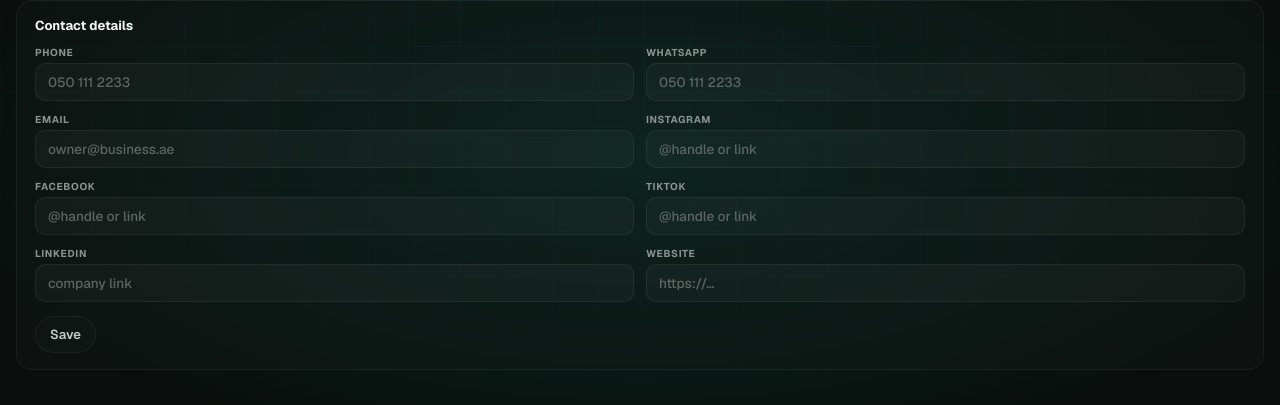
Test: ContactDetails › surfaces a server rejection against the field
Type "https://example.com/x" into the field labelled "Instagram" at (946, 149), box [646,130,1245,168]
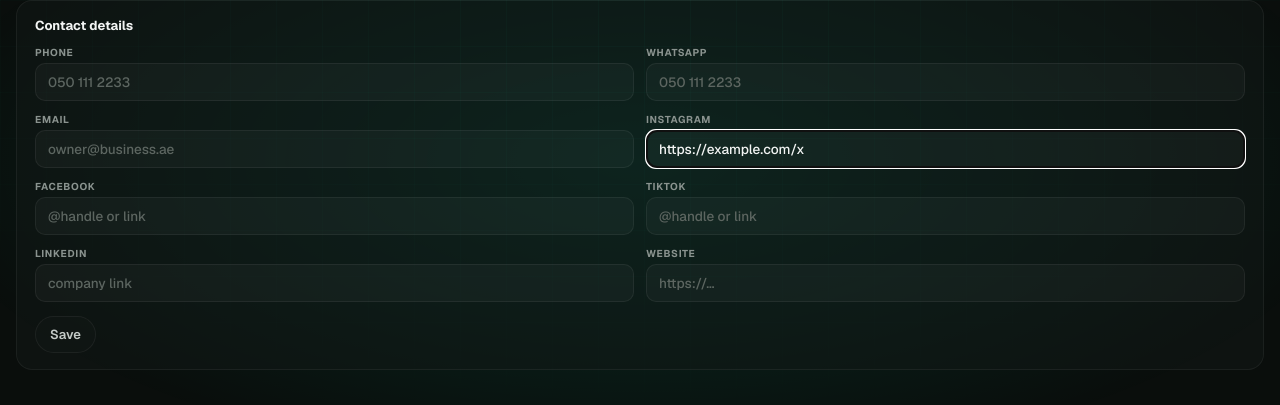
Click the button "Save" at (65, 334), box [35,316,96,353]
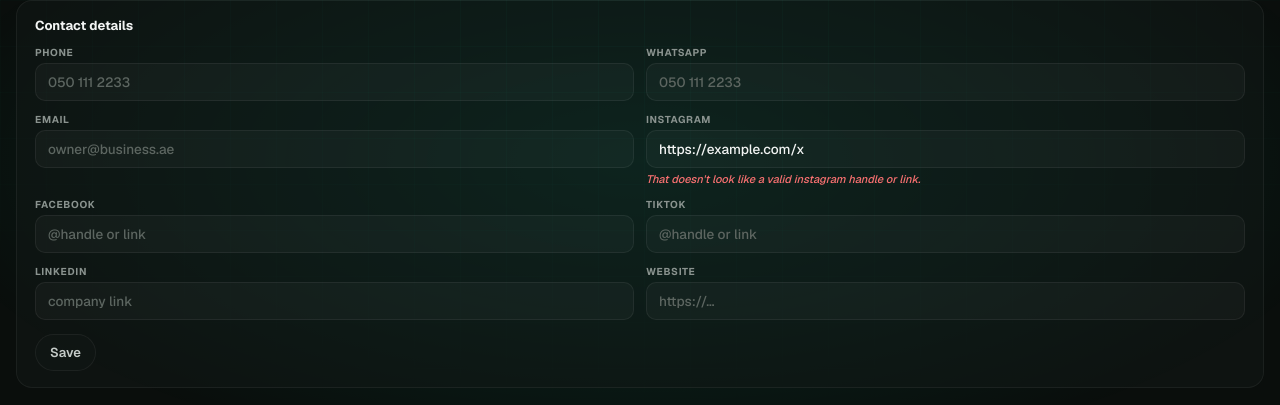
Check: the text "That doesn't look like a valid instagram handle or link." is shown, box [646,172,920,186]
